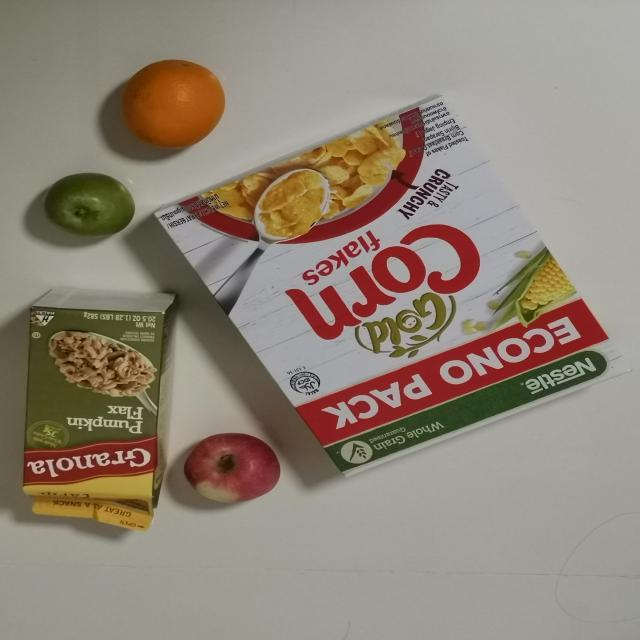Apple: (182, 426, 286, 512), (37, 174, 133, 244)
Cerealbox: (145, 92, 635, 482), (23, 282, 179, 538)
Orange: (116, 59, 226, 151)
